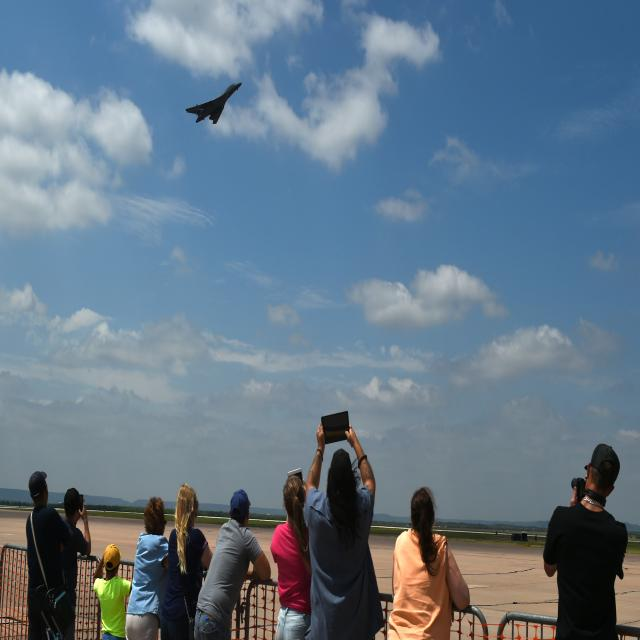MIL_Plane: (186, 82, 242, 124)
